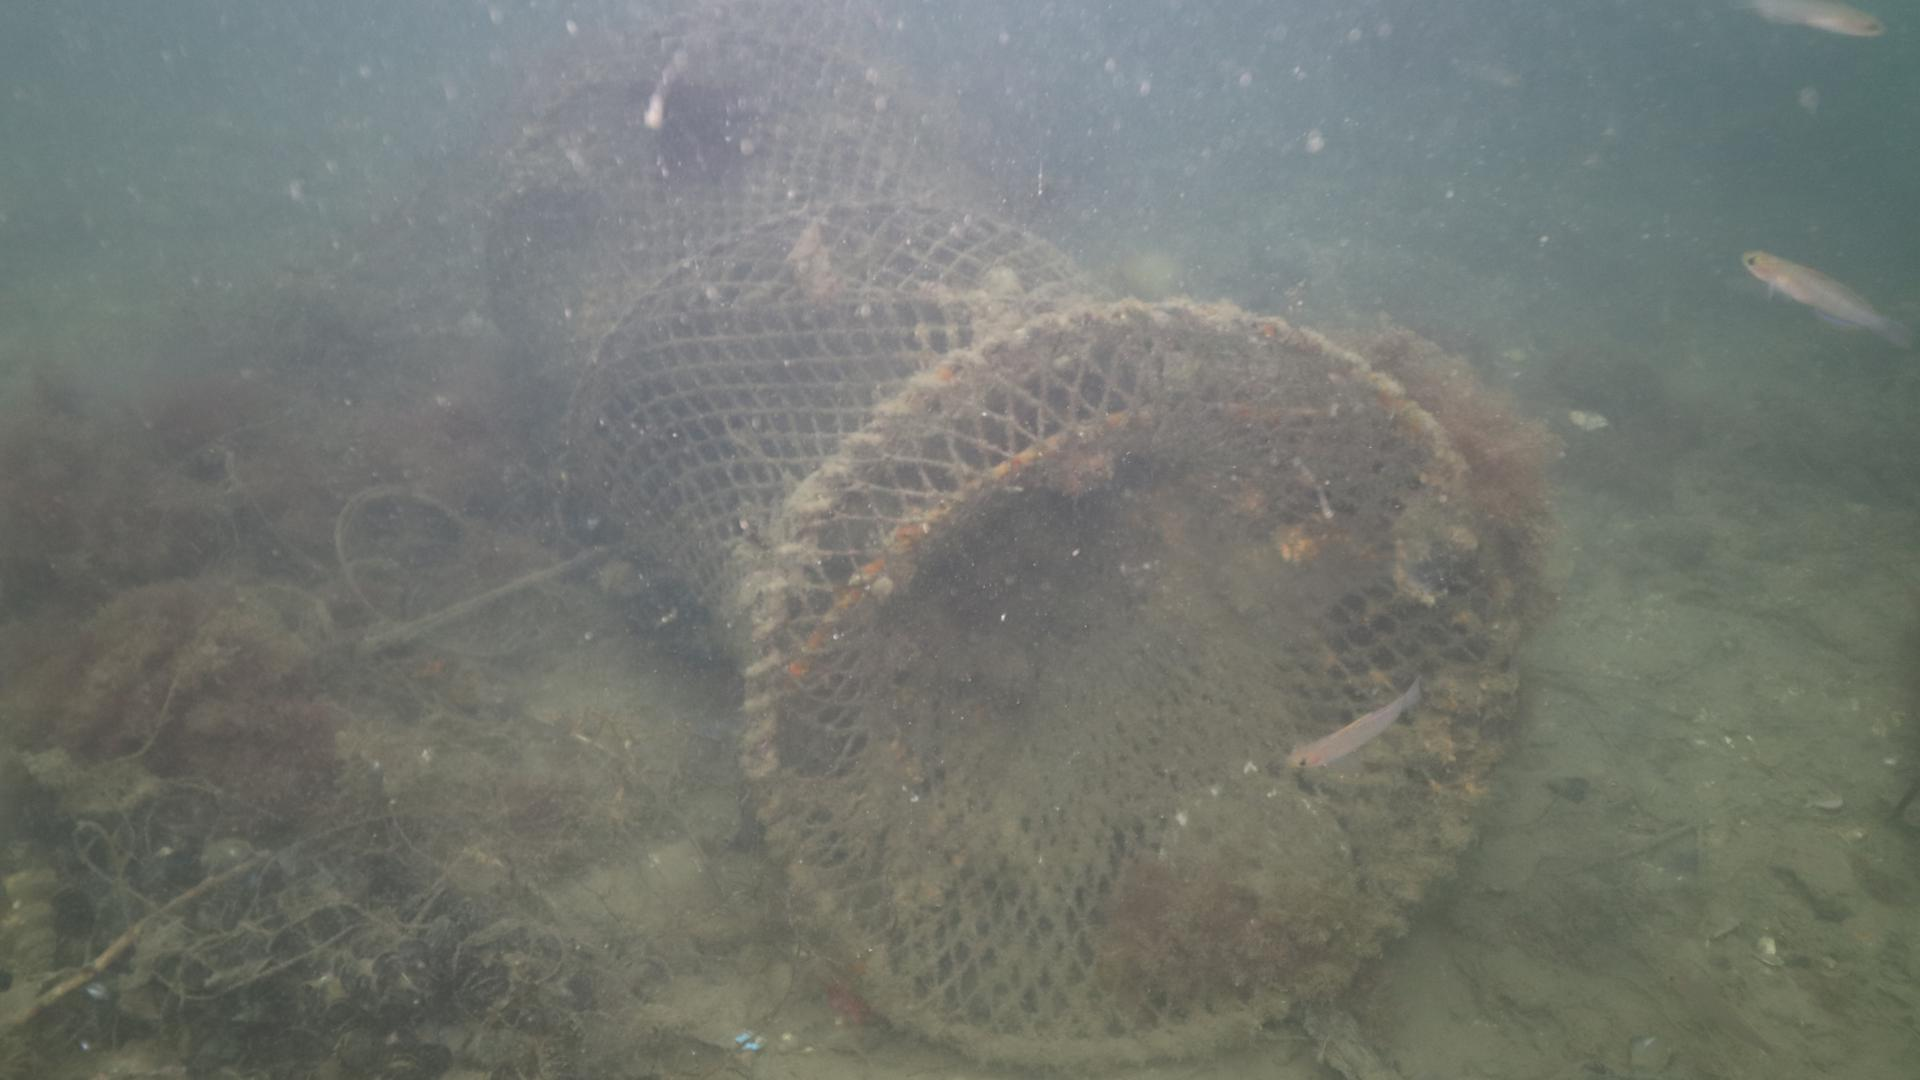spring fish trap: (471, 30, 1520, 1069)
